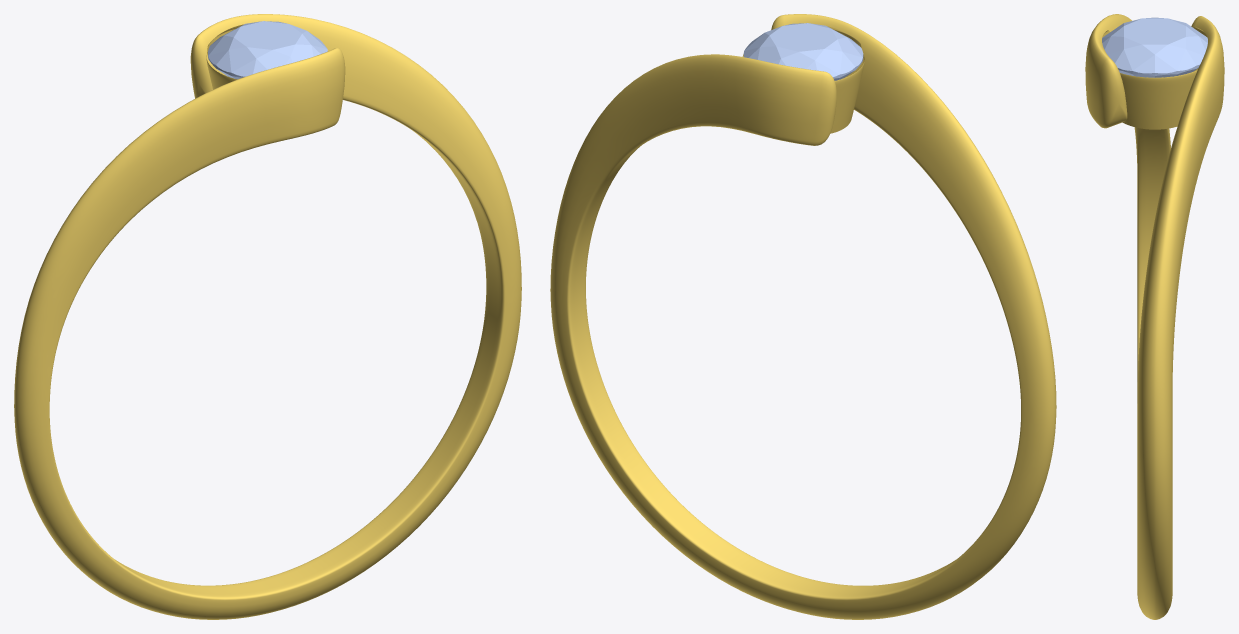
3 views of the same model, side by side, from view 1: azimuth 30°, elevation 25°; view 2: azimuth 150°, elevation 25°; view 3: azimuth 270°, elevation 25° (orthographic). The views are drawn at different scales.
Visible parts, largest first — view 1: Anel Solitario Abrançado a Gema 4.0mm Aro 18 1.0 gramas rend; view 2: Anel Solitario Abrançado a Gema 4.0mm Aro 18 1.0 gramas rend; view 3: Anel Solitario Abrançado a Gema 4.0mm Aro 18 1.0 gramas rend.
Part boxes in pixels (x1,y1,x2,y2): Anel Solitario Abrançado a Gema 4.0mm Aro 18 1.0 gramas rend: (14, 14, 521, 619); Anel Solitario Abrançado a Gema 4.0mm Aro 18 1.0 gramas rend: (550, 14, 1056, 619); Anel Solitario Abrançado a Gema 4.0mm Aro 18 1.0 gramas rend: (1085, 14, 1224, 619).
Bounding box in the file's own units: 2.67 × 2.91 × 0.6532.
